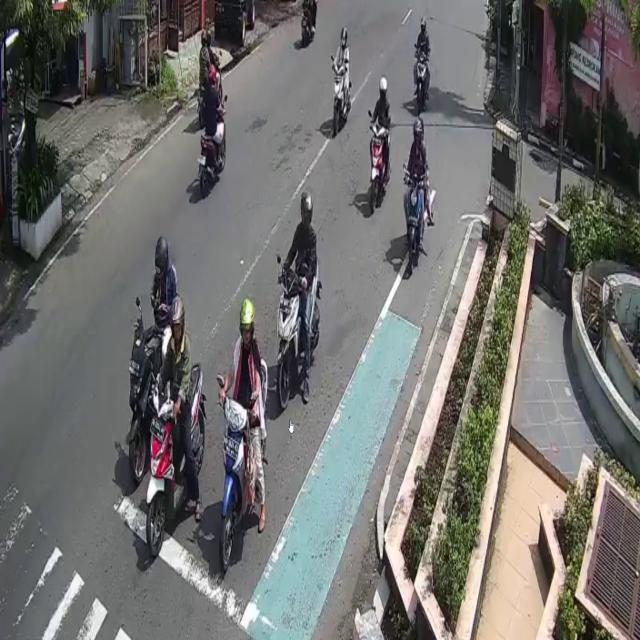bus: (147, 360, 203, 562), (220, 356, 268, 562), (276, 244, 320, 412), (128, 321, 162, 487), (201, 105, 226, 183), (404, 171, 423, 273), (333, 61, 352, 139), (370, 120, 385, 210), (410, 46, 430, 112)
